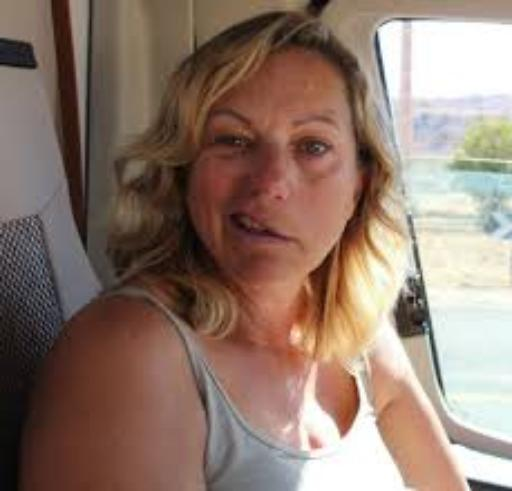left_eye: (294, 139, 335, 159)
left_lip_corner: (284, 232, 304, 253)
right_eye: (212, 134, 254, 152)
right_lip_corner: (222, 209, 242, 226)
